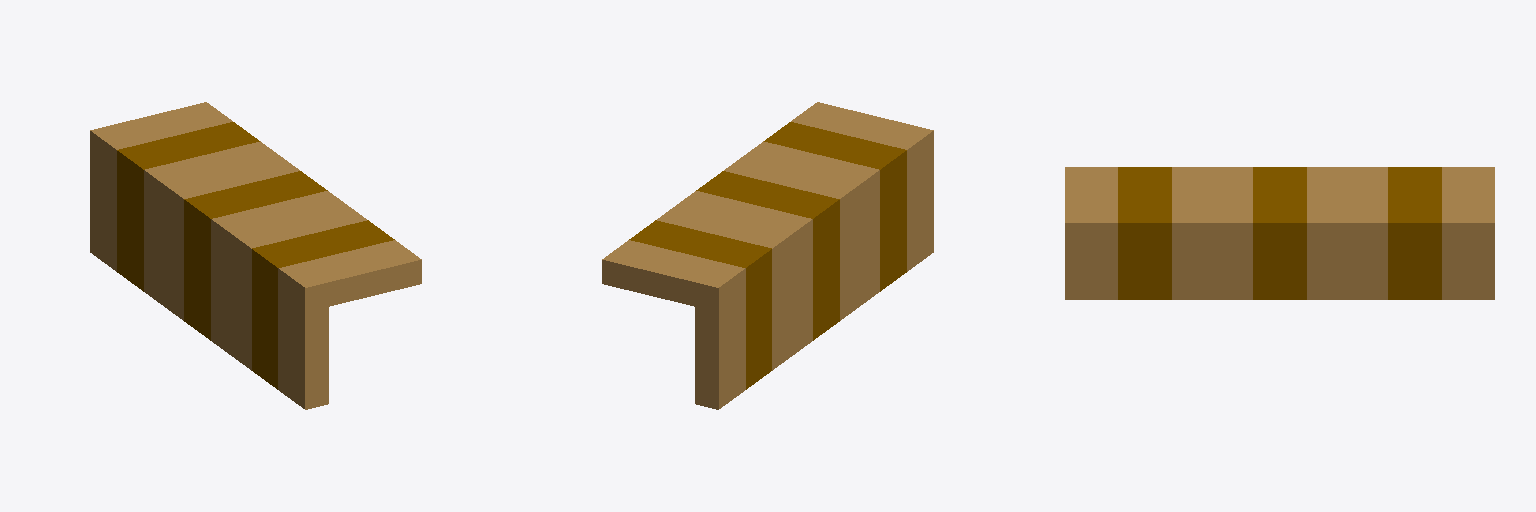
3 views of the same model, side by side, from view 1: azimuth 30°, elevation 25°; view 2: azimuth 150°, elevation 25°; view 3: azimuth 270°, elevation 25° (orthographic).
Visible parts, largest first — view 1: FishSide; view 2: FishSide; view 3: FishSide.
Boxes of the visible parts, x1,y1,x2,y2 form: FishSide: [90, 102, 421, 409]; FishSide: [602, 102, 933, 409]; FishSide: [1065, 167, 1494, 299].
Bounding box in the file's own units: 5 × 5 × 16.
Materials: 1 (1 with a texture image).